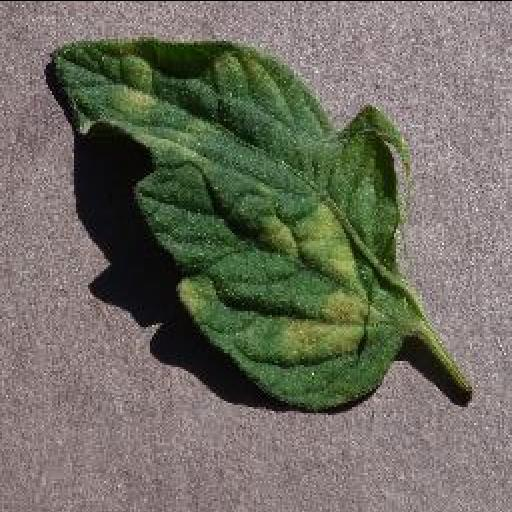disease_tomato: (48, 36, 410, 410)
